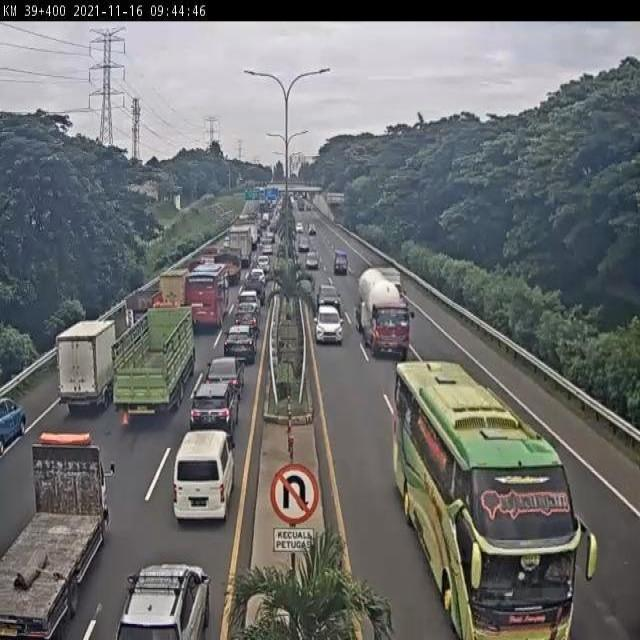Bus: (391, 361, 592, 640), (184, 262, 230, 325)
Car: (114, 561, 210, 639), (189, 378, 242, 440), (0, 398, 26, 456), (205, 356, 244, 393), (224, 323, 258, 362), (312, 306, 343, 348), (314, 283, 341, 310), (237, 288, 258, 307), (249, 267, 266, 290), (334, 249, 348, 275), (257, 255, 271, 274), (305, 251, 319, 269), (298, 237, 310, 252), (262, 242, 274, 255), (295, 222, 303, 234), (308, 224, 316, 235)
Truck: (0, 431, 115, 640), (111, 305, 196, 420), (54, 318, 118, 419), (356, 270, 413, 356), (158, 268, 187, 308), (228, 226, 251, 265)
Van: (172, 429, 235, 521)
